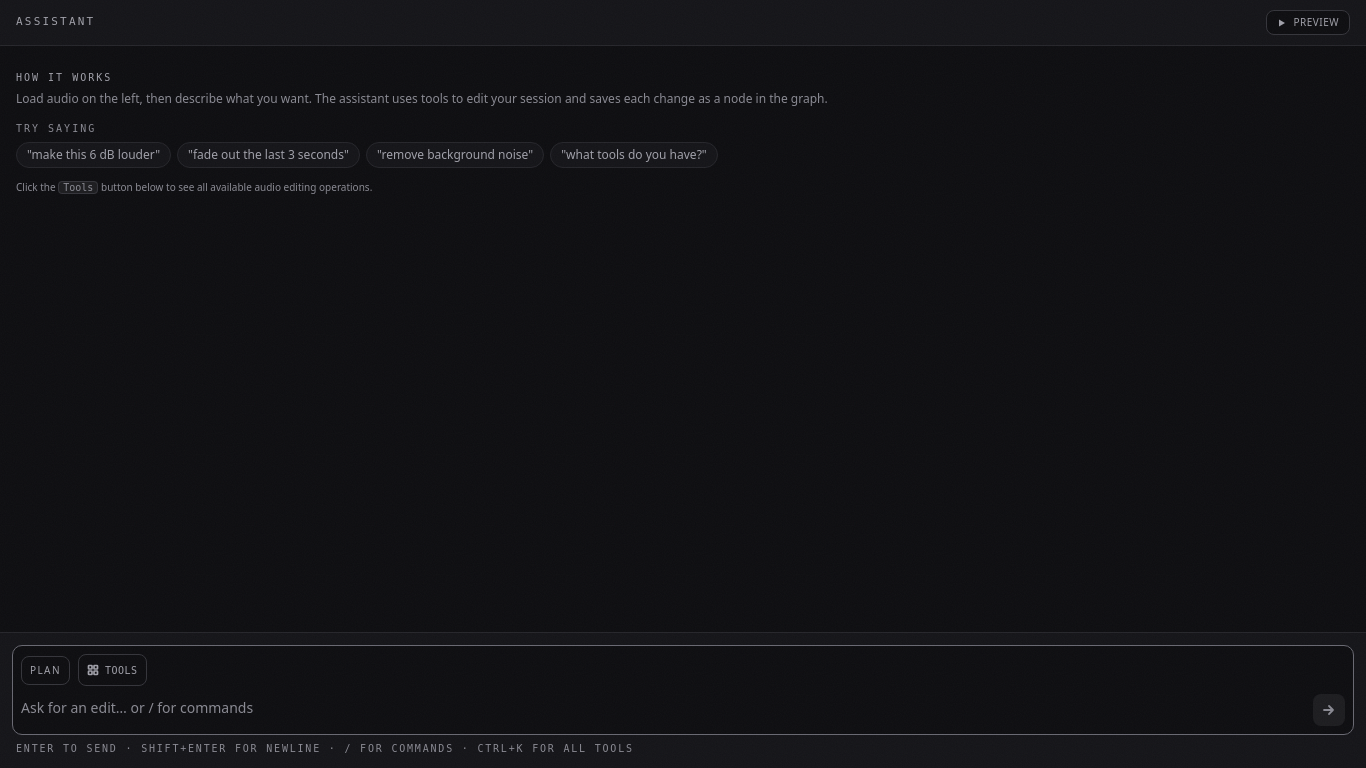
Scenario: the plan-first toggle › shows a choice that could not be saved as in force, and says so
Click the button with test id "plan-first-toggle" at (45, 670), box [21, 656, 70, 684]
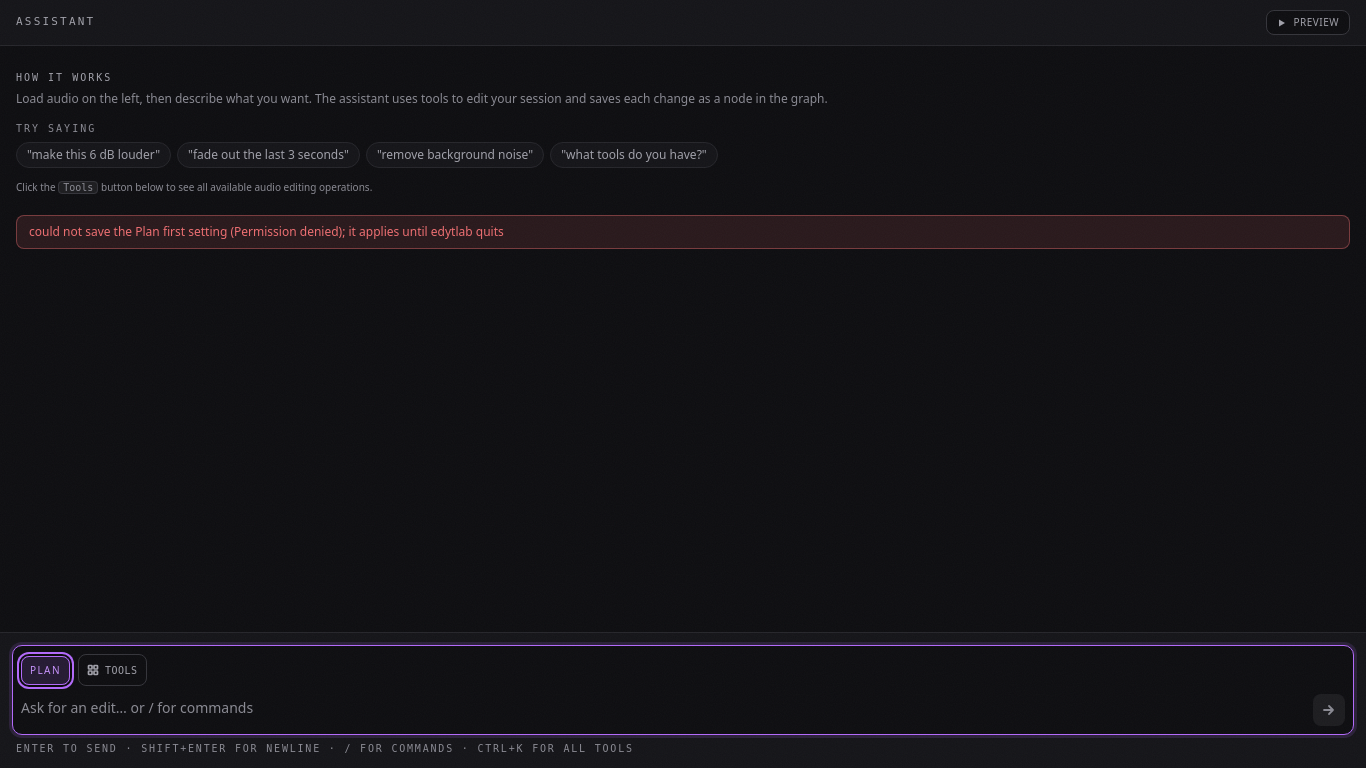
Now the message with test id "chat-error" shows "could not save the Plan first setting (Permission denied); it applies until edytlab quits", box [29, 222, 504, 240]
